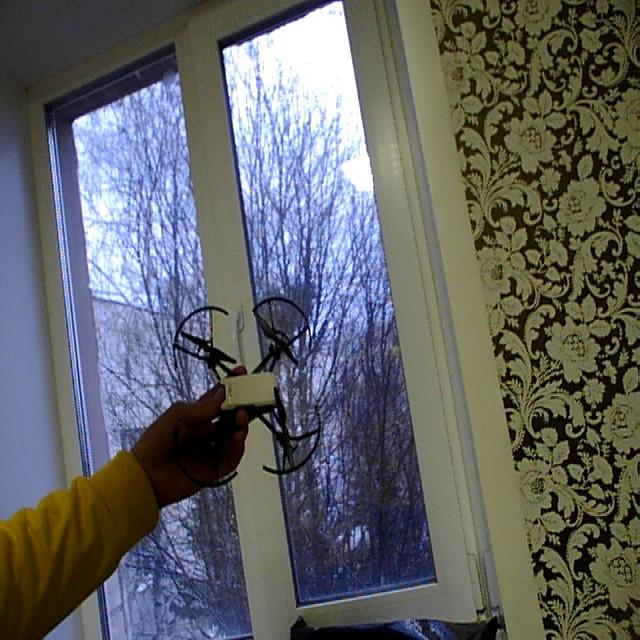drone: (164, 294, 330, 482)
